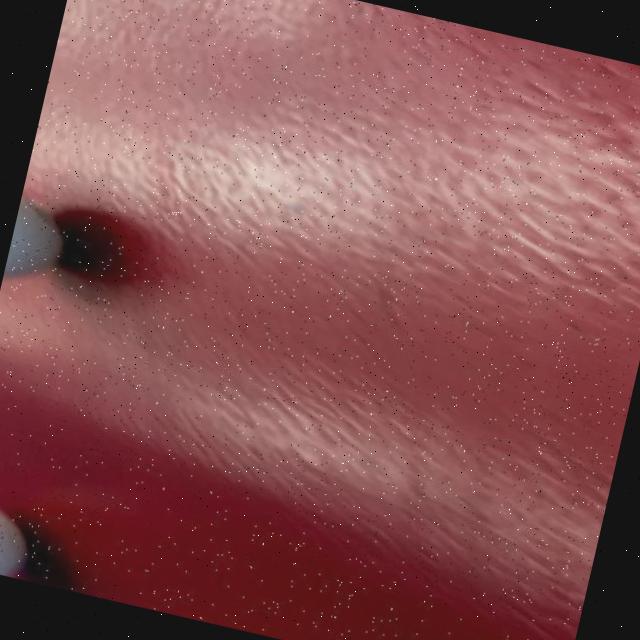ping-pong-ball: (0, 174, 102, 315), (0, 478, 56, 583)
